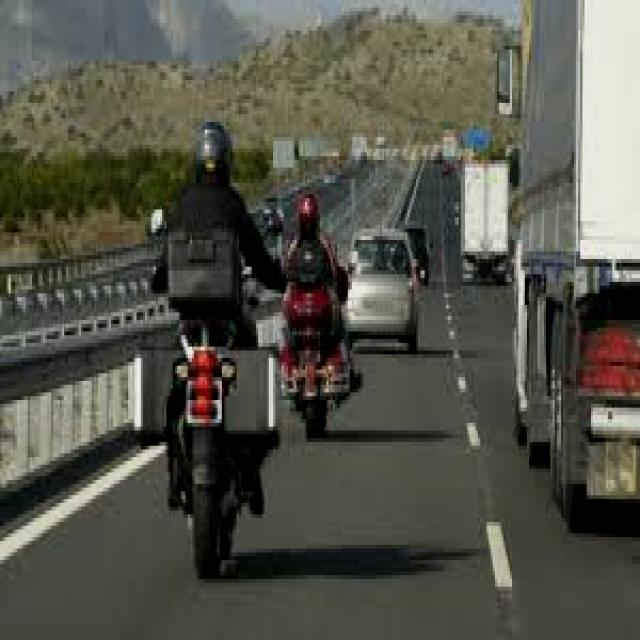MOTORCYCLE: (148, 216, 273, 578), (279, 249, 337, 442)
TRUCK: (457, 156, 512, 288)
